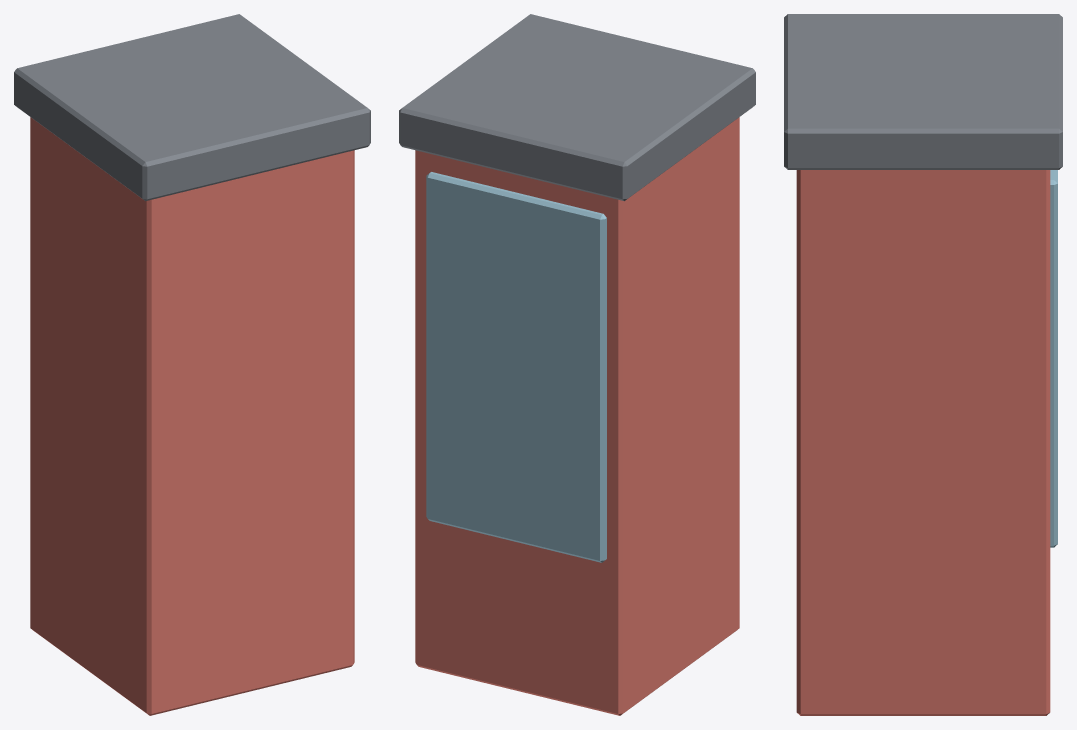
Rendered from 街道_电话亭_01.fbx.
The picture shows the model from 3 angles, left to right: view 1: azimuth 30°, elevation 25°; view 2: azimuth 150°, elevation 25°; view 3: azimuth 270°, elevation 25°; orthographic projection. The views are drawn at different scales.
Parts seen in each view (by area): view 1: 亭体.001, 顶盖.003; view 2: 亭体.001, 玻璃, 顶盖.003; view 3: 亭体.001, 顶盖.003, 玻璃.
Boxes of the visible parts, x1=… form: 亭体.001: x1=30, y1=117, x2=354, y2=715; 顶盖.003: x1=14, y1=14, x2=370, y2=201; 亭体.001: x1=415, y1=117, x2=739, y2=715; 玻璃: x1=426, y1=172, x2=606, y2=562; 顶盖.003: x1=399, y1=14, x2=755, y2=201; 亭体.001: x1=796, y1=170, x2=1050, y2=715; 顶盖.003: x1=784, y1=14, x2=1062, y2=169; 玻璃: x1=1050, y1=170, x2=1057, y2=547.
Bounding box in the file's own units: 110 × 258 × 110.
